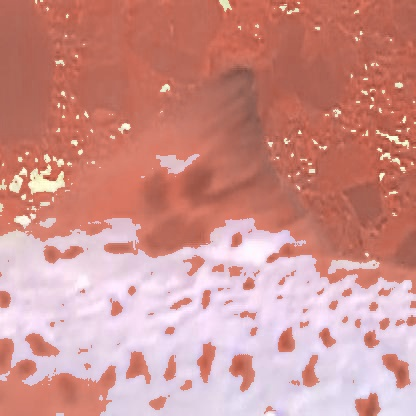salmon: (0, 60, 415, 414)
